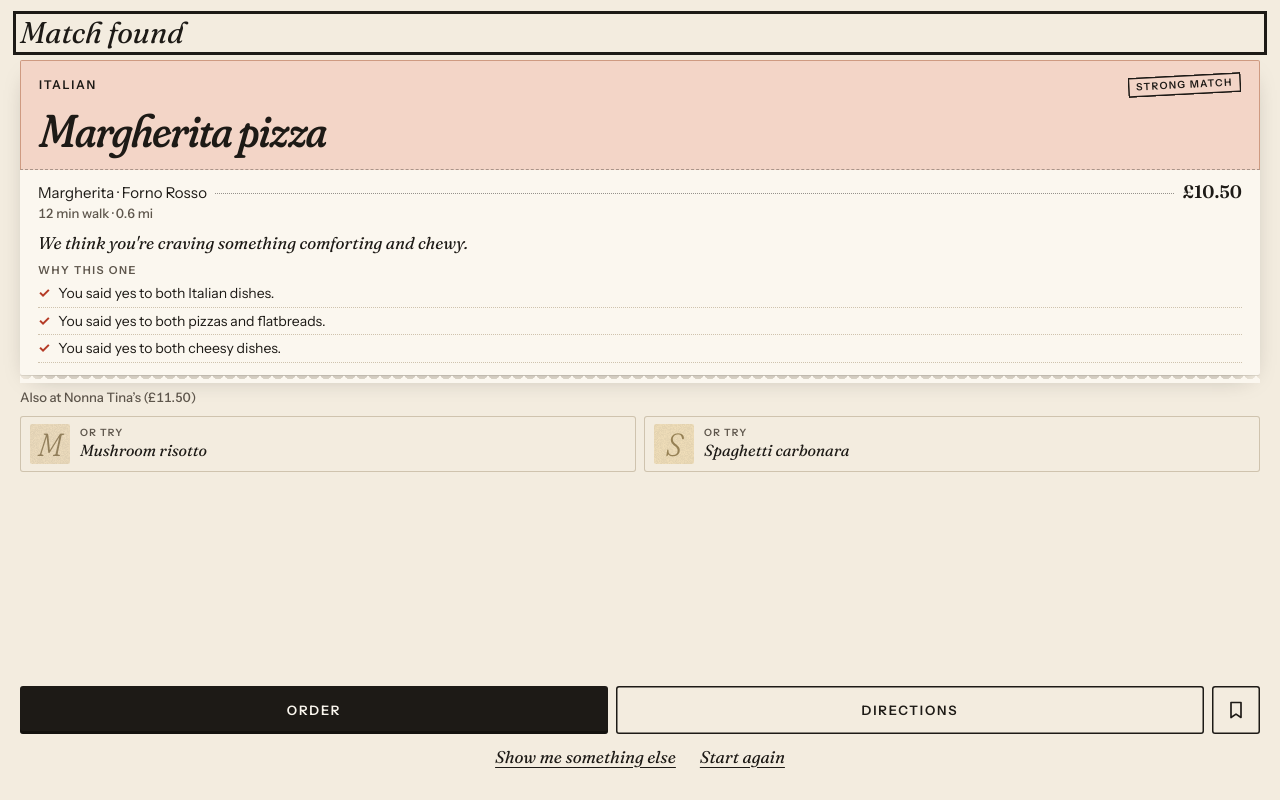
Test: MatchScreen › inspects an alternative without offering “Show me something else”, then chooses or returns
Click the button with class "alt-tile" showing "M Or try Mushroom risotto".
click(50, 444)  # box [20,416,636,472]
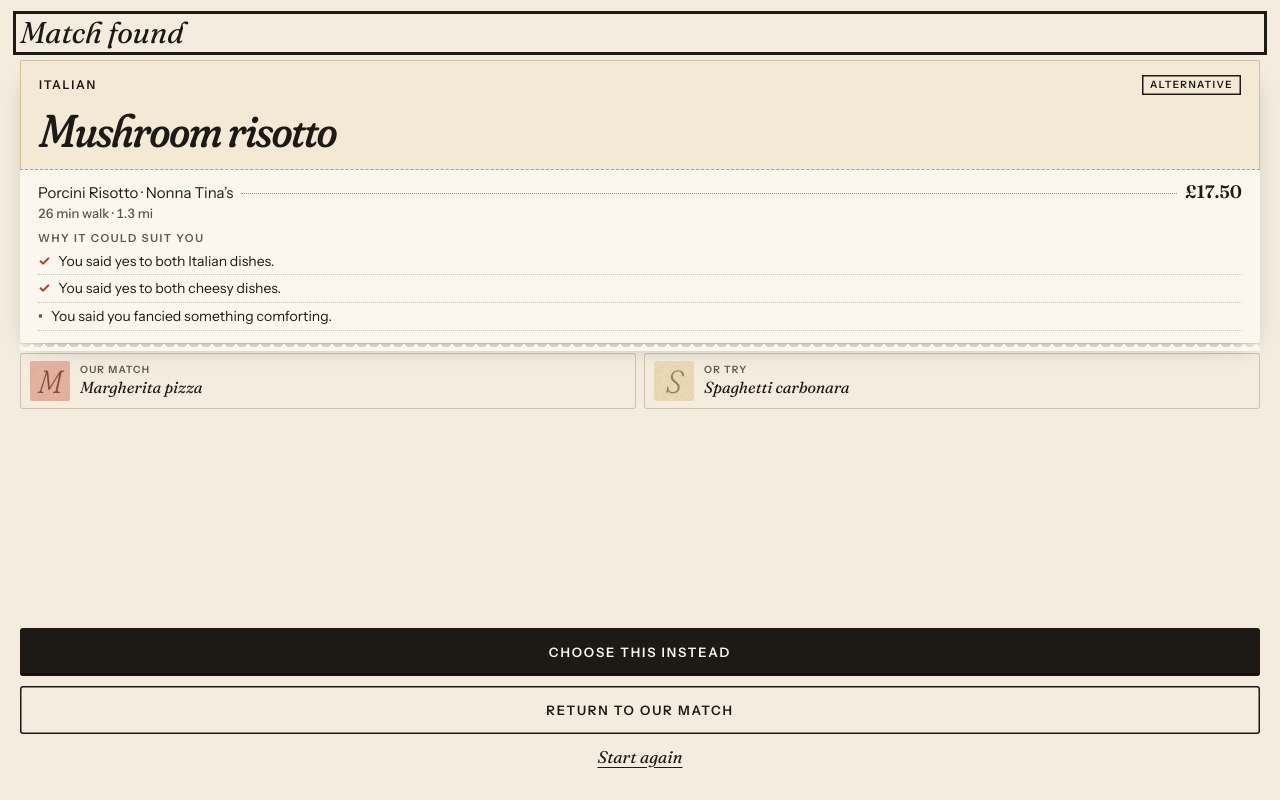
Expected: the text "Alternative" is shown, [1142,75,1241,95]
Expected: the heading "Why it could suit you" is shown, [38,231,204,245]
Expected: the button "Choose this instead" is shown
Click the button "Choose this instead".
click(640, 652)  # box [20,628,1260,676]
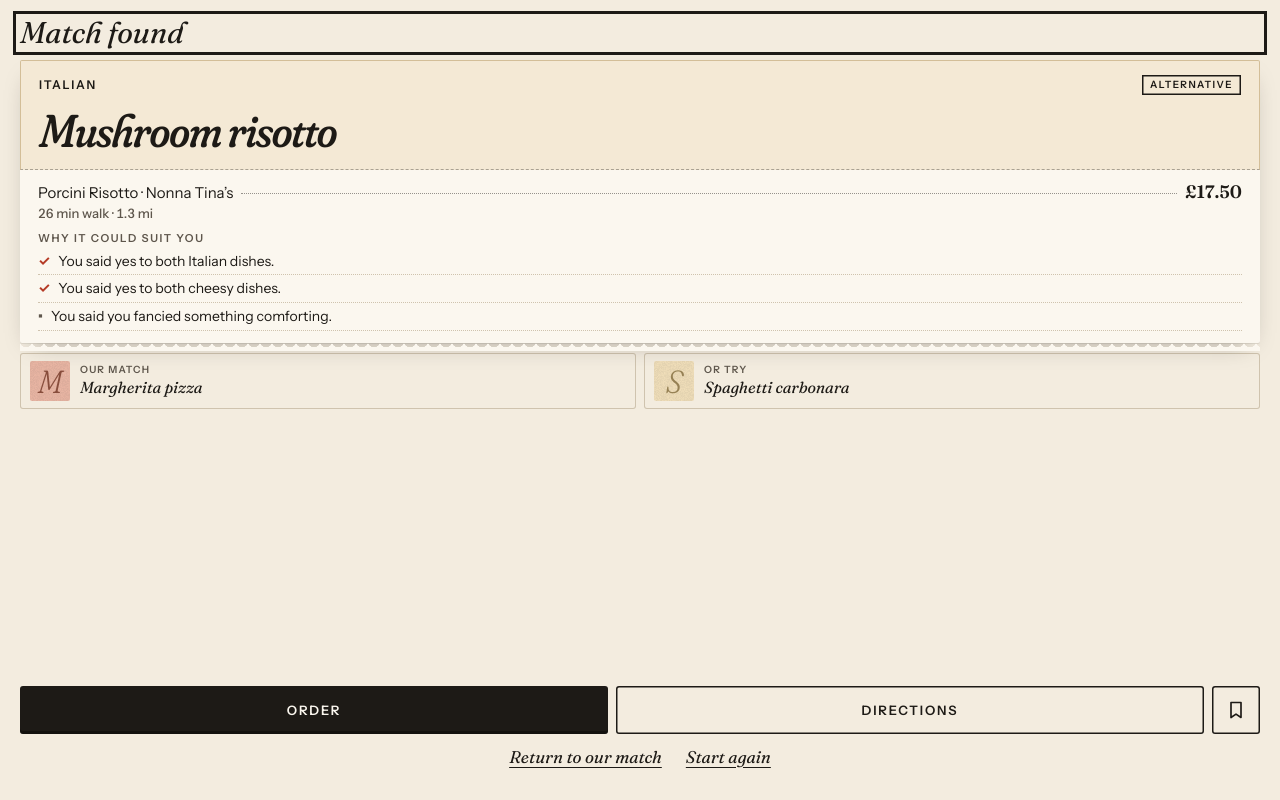
Expected: the button "Show me something else" is not shown
Expected: the button "Order" is shown, [20,686,608,734]
Click the button "Return to our match".
click(585, 756)  # box [505,734,666,778]
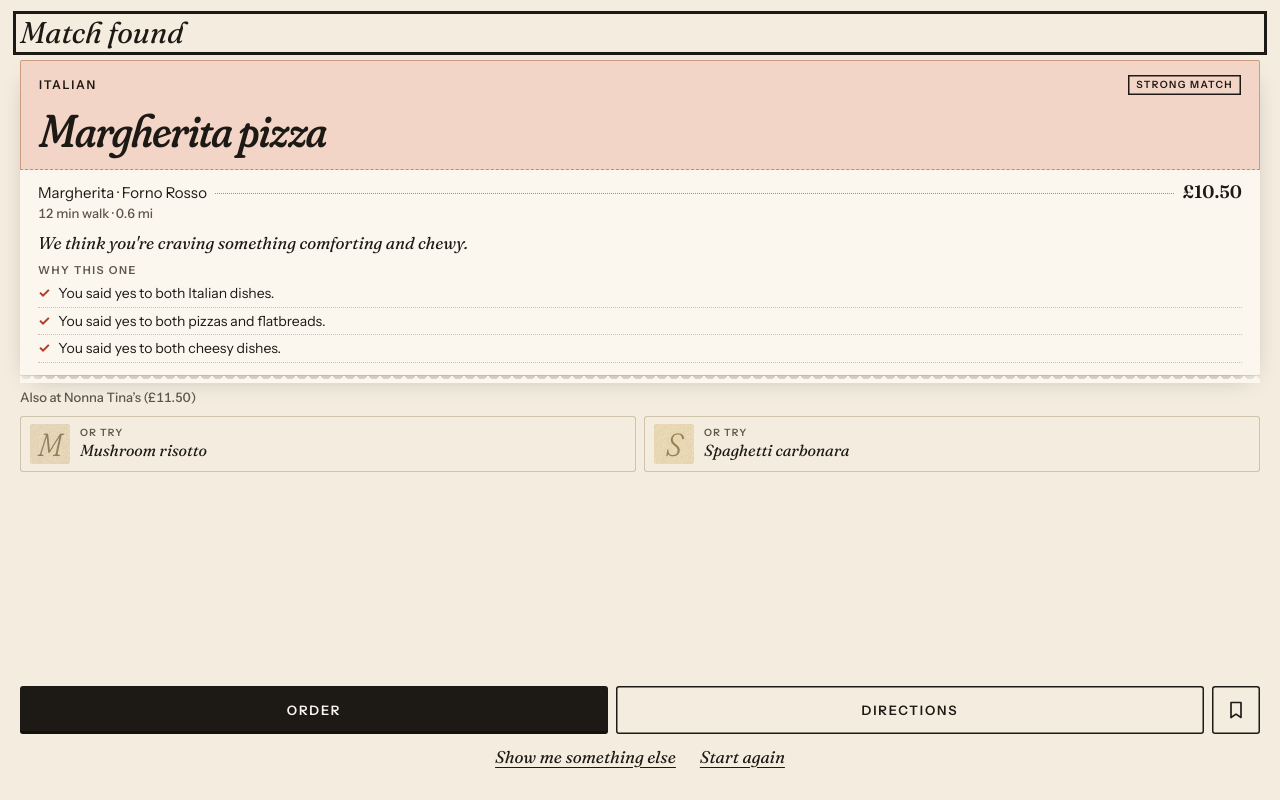
Expected: the heading "Margherita pizza" is shown, [39,102,327,159]
Expected: the button "Show me something else" is shown, [491,734,680,778]
